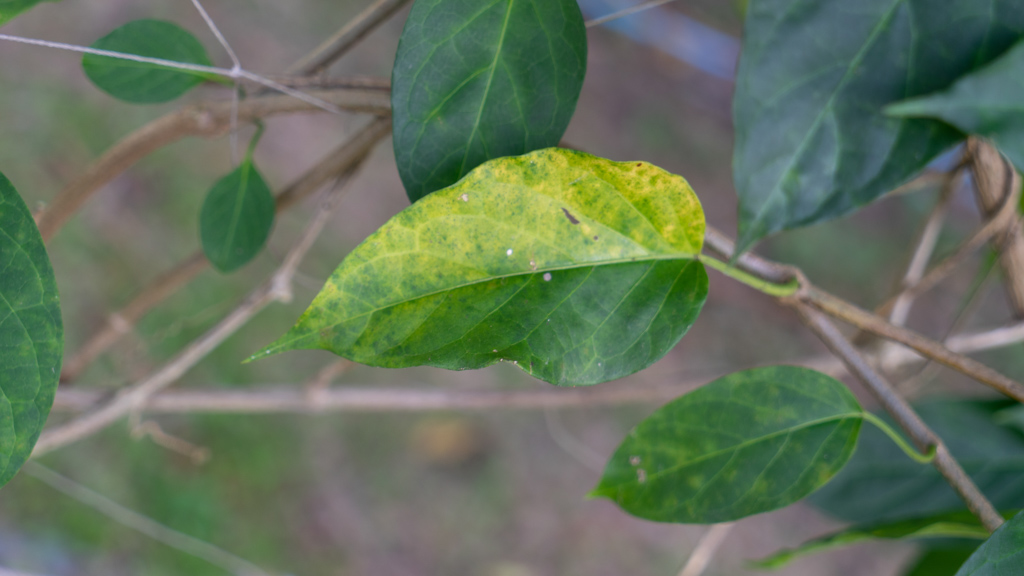Pepper yellow leaf: (278, 141, 712, 333)
